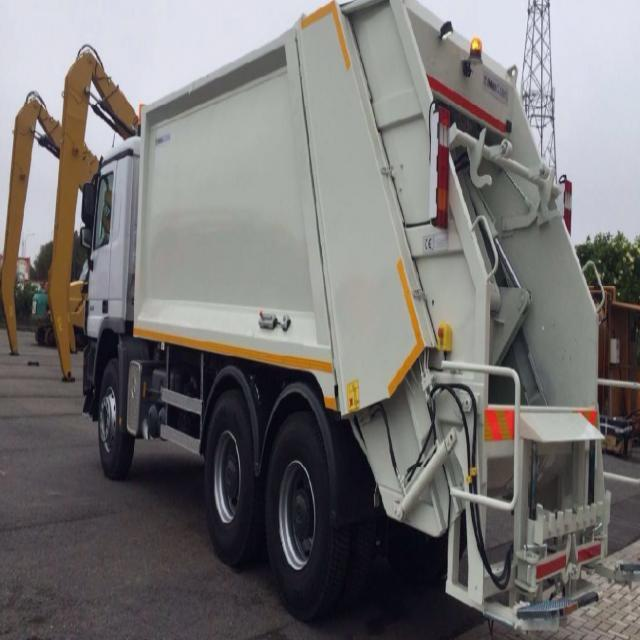traffic light: (79, 0, 610, 632)
